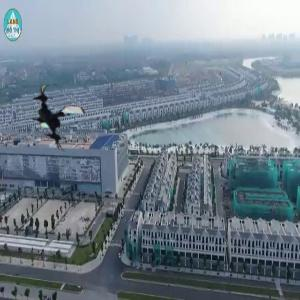drone: (23, 85, 90, 152)
